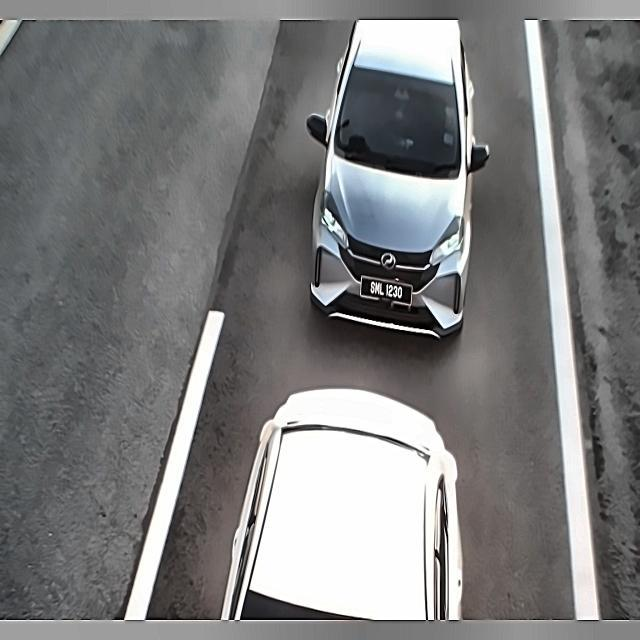car: (357, 269, 417, 314)
